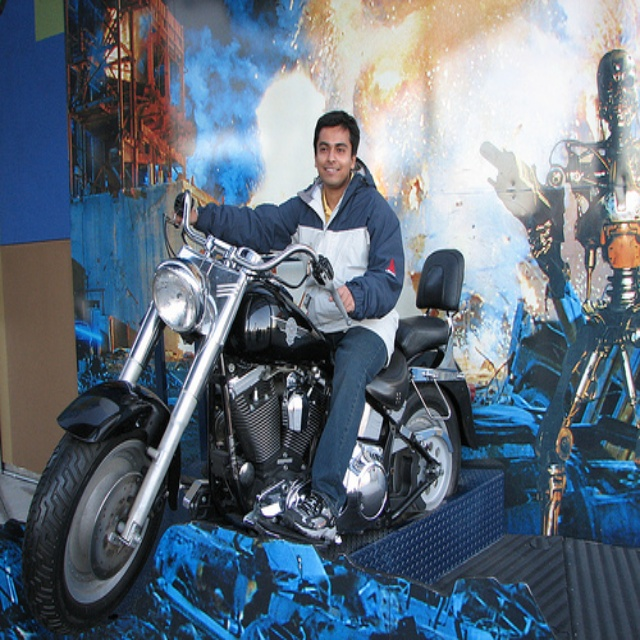Motorcycle: (20, 191, 479, 633)
